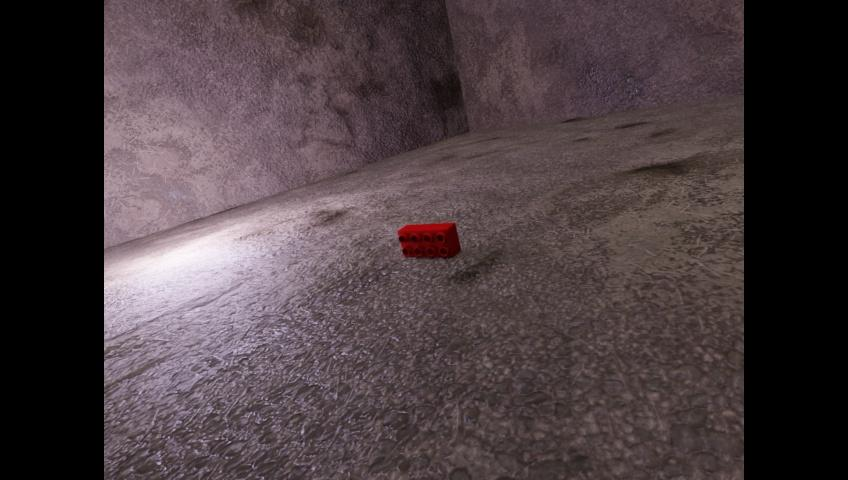4x2_red: (398, 222, 460, 256)
